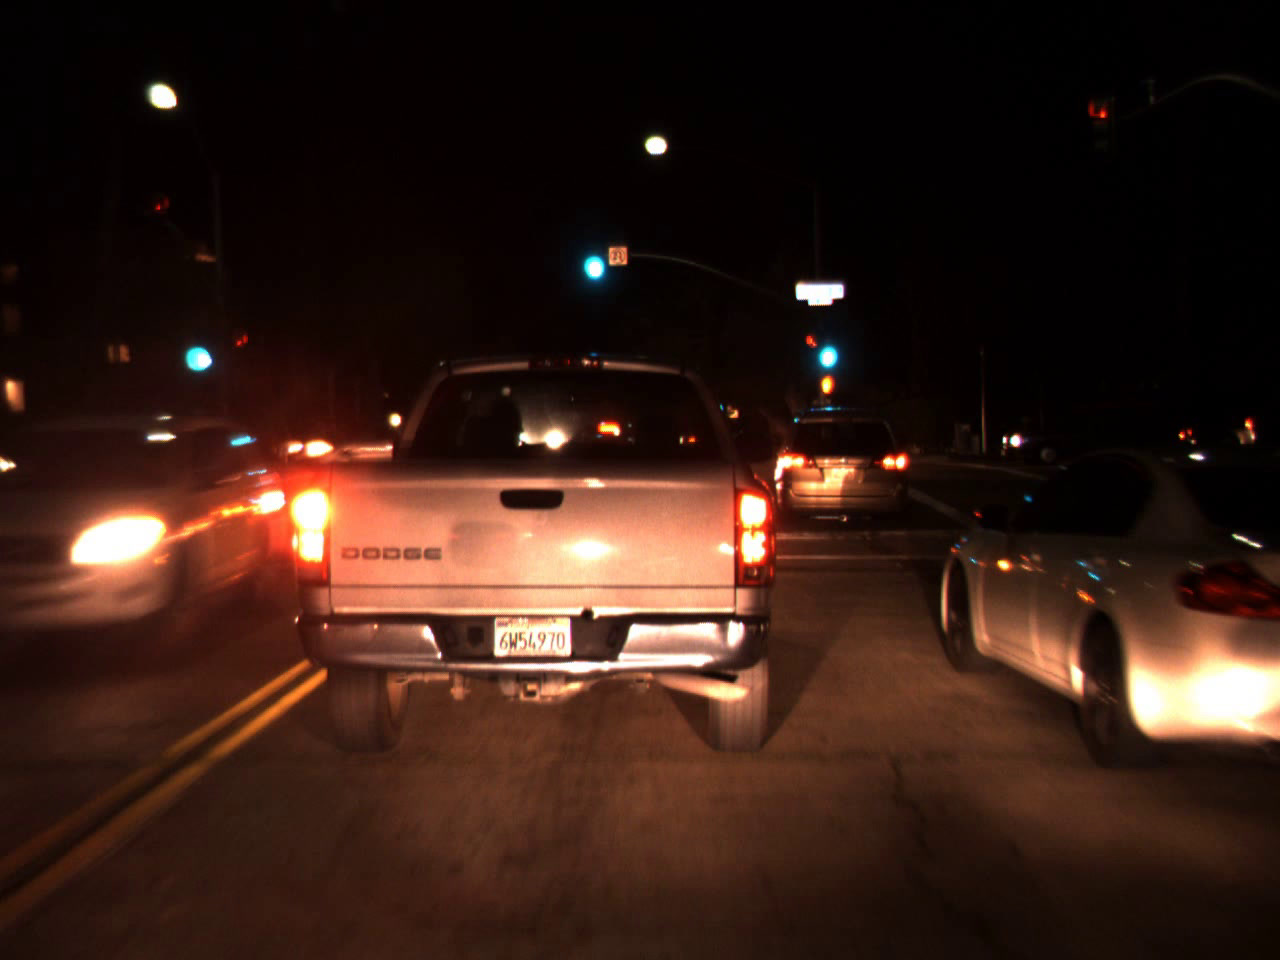go: (575, 225, 609, 288), (176, 319, 213, 376), (811, 317, 841, 377)
